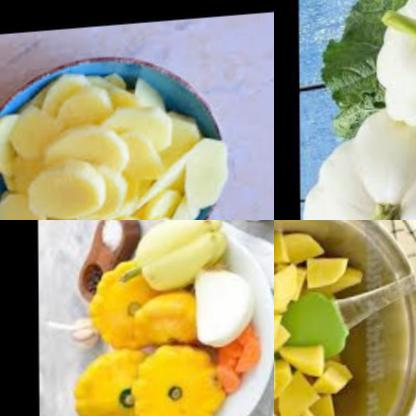bell pepper: (128, 220, 230, 301)
carrot: (203, 327, 257, 402)
onion: (191, 264, 257, 359)
potato: (0, 58, 231, 220), (274, 228, 354, 416)
squash-patisson: (302, 106, 416, 220), (122, 333, 228, 416), (75, 259, 156, 365), (58, 344, 152, 416), (371, 0, 416, 139), (123, 290, 198, 362)
